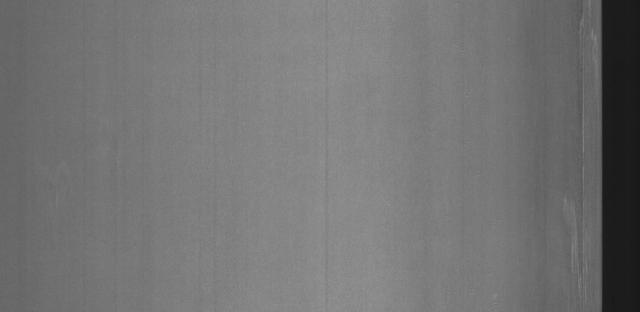silk_spot: (549, 186, 596, 297)
